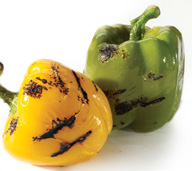capsicum: (84, 3, 187, 135), (0, 59, 115, 165)
